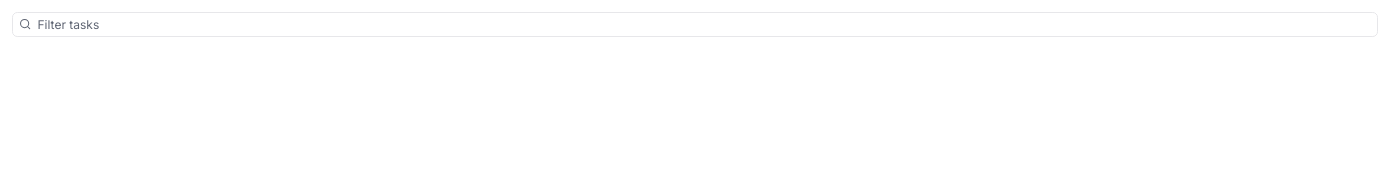
Scenario: SearchInput › shows a clear button only when there is a value, and clearing empties it
Type "x" into the search field.
click(695, 24); type("x")  # box left=12, top=12, right=1378, bottom=36
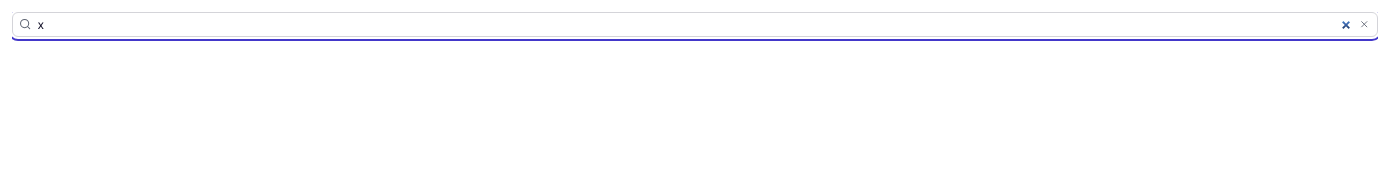
Click the button named "Clear filter".
click(1364, 24)  # box left=1355, top=15, right=1373, bottom=33
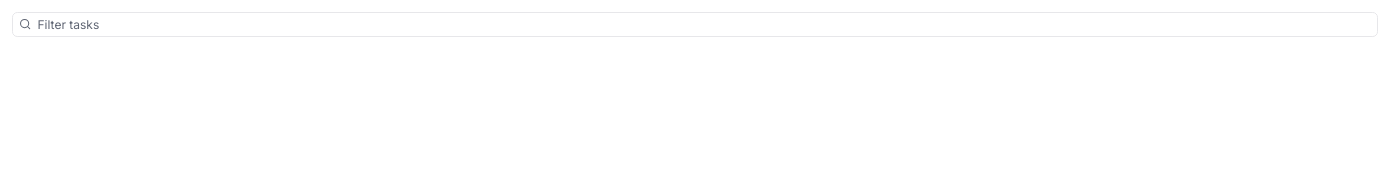
Now the search field is empty, box left=12, top=12, right=1378, bottom=36
